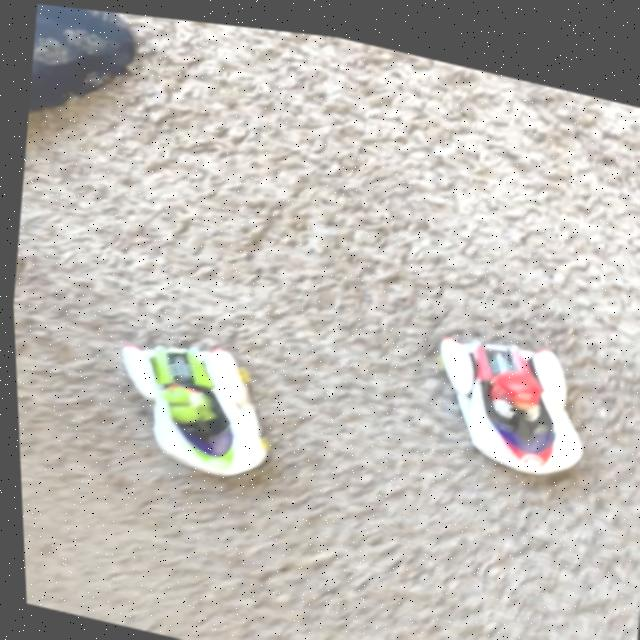mario: (409, 293, 611, 497)
yoshi: (90, 300, 299, 506)
